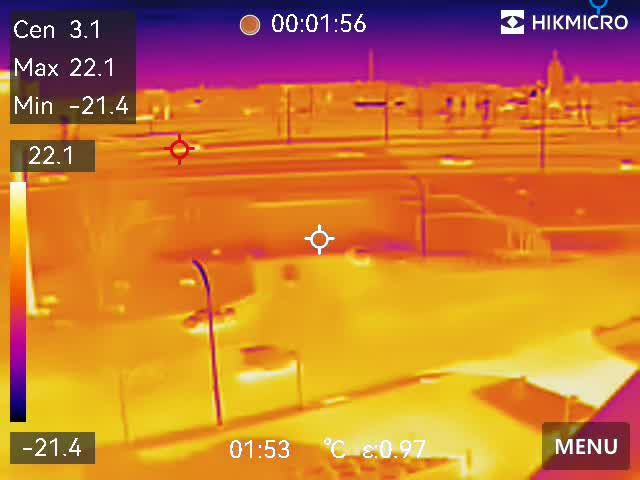smallCar: (238, 345, 302, 376), (179, 305, 240, 328), (439, 154, 477, 169), (280, 258, 299, 288)
vehicle: (344, 246, 374, 269), (618, 158, 640, 171)
